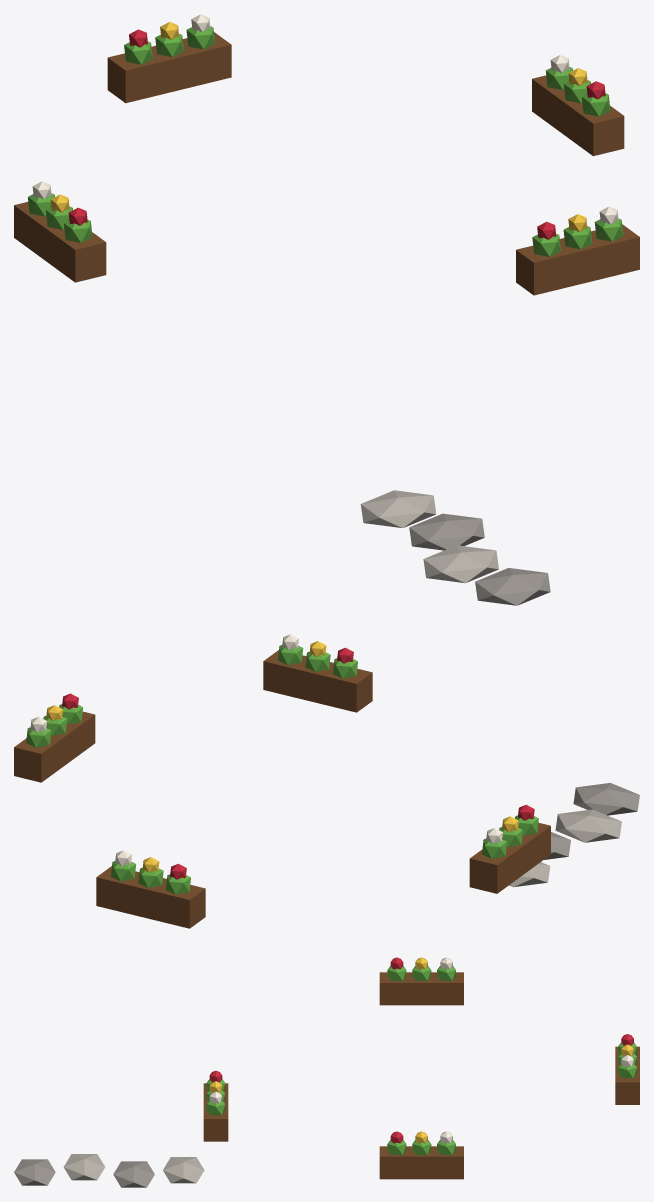
Rendered from house_decor_2.glb.
3 views of the same model, one above another, from view 1: azimuth 30°, elevation 25°; view 2: azimuth 150°, elevation 25°; view 3: azimuth 270°, elevation 25° (orthographic). The views are drawn at different scales.
Visible parts, largest first — view 1: plank_dark, leaf_light, stone_light, stone; view 2: plank_dark, leaf_light, stone_light, stone; view 3: plank_dark, leaf_light, stone, stone_light.
Part boxes in pixels (<box>): plank_dark: <box>14,32,639,295</box>; leaf_light: <box>28,26,623,256</box>; stone_light: <box>360,490,498,583</box>; stone: <box>409,513,550,605</box>; plank_dark: <box>14,650,550,928</box>; leaf_light: <box>26,645,538,894</box>; stone_light: <box>509,809,621,887</box>; stone: <box>544,783,639,859</box>; plank_dark: <box>203,972,639,1179</box>; leaf_light: <box>206,966,636,1154</box>; stone: <box>14,1159,154,1187</box>; stone_light: <box>63,1154,204,1183</box>.
Bounding box in the file's own units: 1.76 × 0.736 × 2.52.
